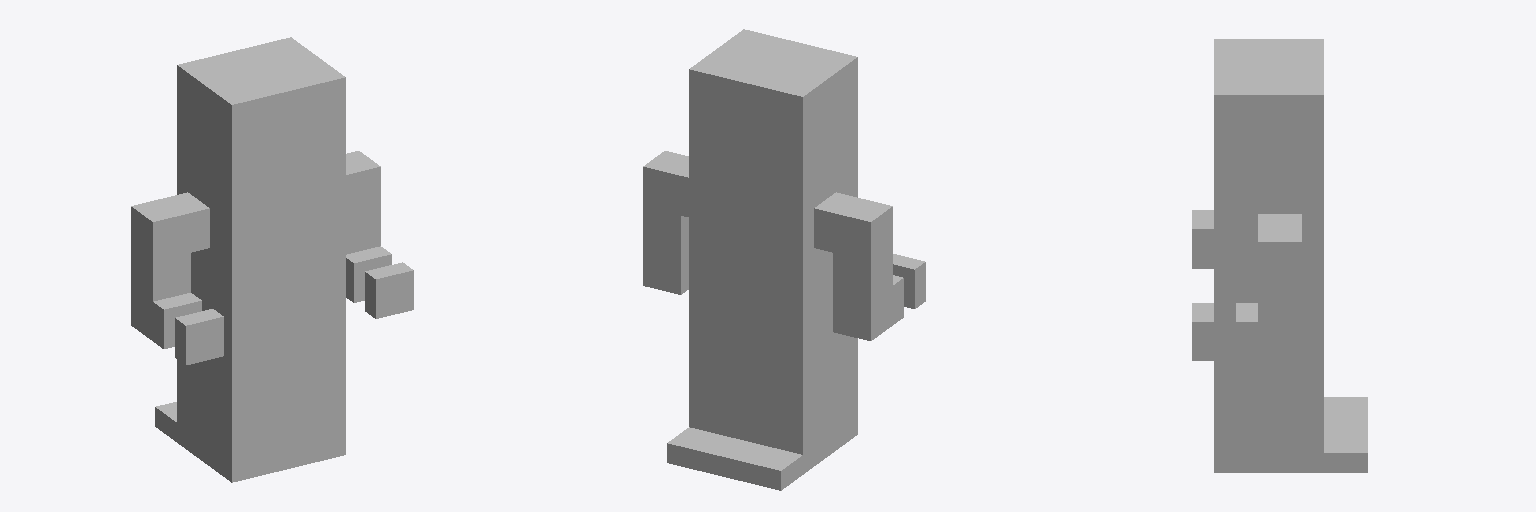
The model's file is ghost.obj.
3 views of the same model, side by side, from view 1: azimuth 30°, elevation 25°; view 2: azimuth 150°, elevation 25°; view 3: azimuth 270°, elevation 25° (orthographic).
Parts seen in each view (by area): view 1: Ghost; view 2: Ghost; view 3: Ghost.
Boxes of the visible parts, x1=… form: Ghost: x1=131, y1=37, x2=413, y2=482; Ghost: x1=643, y1=29, x2=925, y2=490; Ghost: x1=1192, y1=39, x2=1367, y2=472.
Bounding box in the file's own units: 0.66 × 1.04 × 0.44.